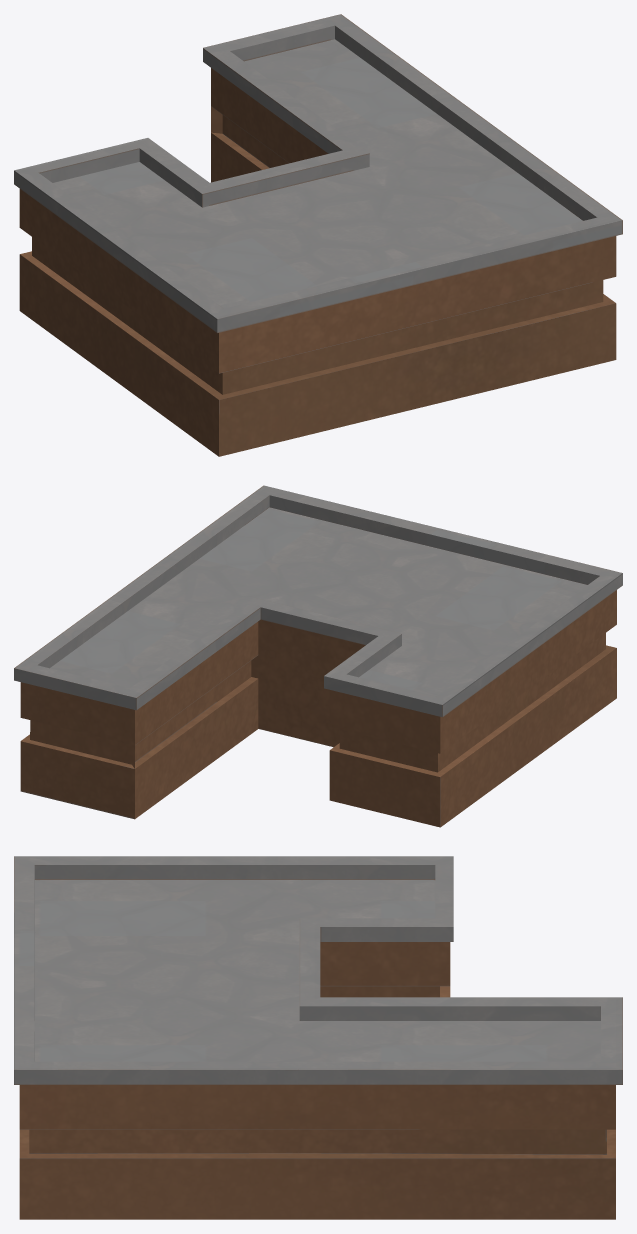
File: pool.fbx
The picture shows the model from 3 angles, top to bottom: view 1: azimuth 30°, elevation 25°; view 2: azimuth 150°, elevation 25°; view 3: azimuth 270°, elevation 25°; orthographic projection. The views are drawn at different scales.
Parts seen in each view (by area): view 1: Pool; view 2: Pool; view 3: Pool.
Boxes of the visible parts, x1,y1,x2,y2 form: Pool: (14, 14, 622, 456); Pool: (14, 485, 622, 827); Pool: (14, 856, 622, 1219).
Bounding box in the file's own units: 7.65 × 2.53 × 9.21.
